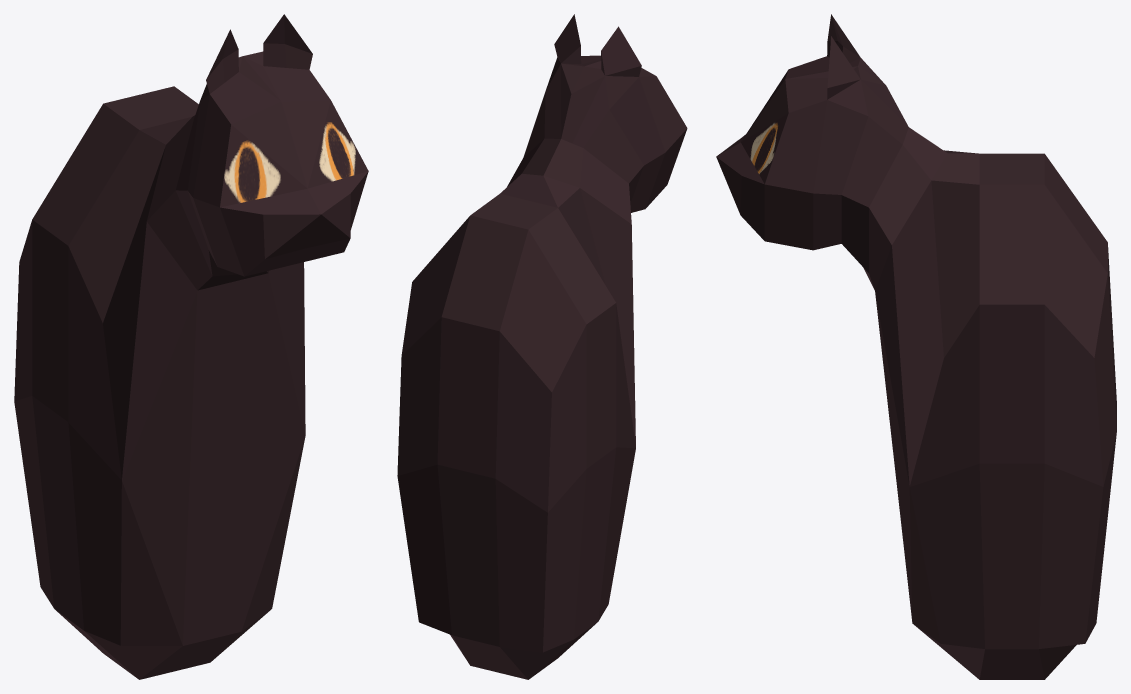
The model's file is operetta_statue.glb.
The picture shows the model from 3 angles, left to right: view 1: azimuth 30°, elevation 25°; view 2: azimuth 150°, elevation 25°; view 3: azimuth 270°, elevation 25°; orthographic projection. The views are drawn at different scales.
Parts seen in each view (by area): view 1: operetta obsidian; view 2: operetta obsidian; view 3: operetta obsidian.
Boxes of the visible parts, box(x1,y1,x2,y2) form: operetta obsidian: box(14, 14, 368, 679); operetta obsidian: box(397, 14, 687, 679); operetta obsidian: box(716, 14, 1116, 679).
Size of the model in its own units: 0.4146 by 1.32 by 0.7502.
Materials: 1 (1 with a texture image).
